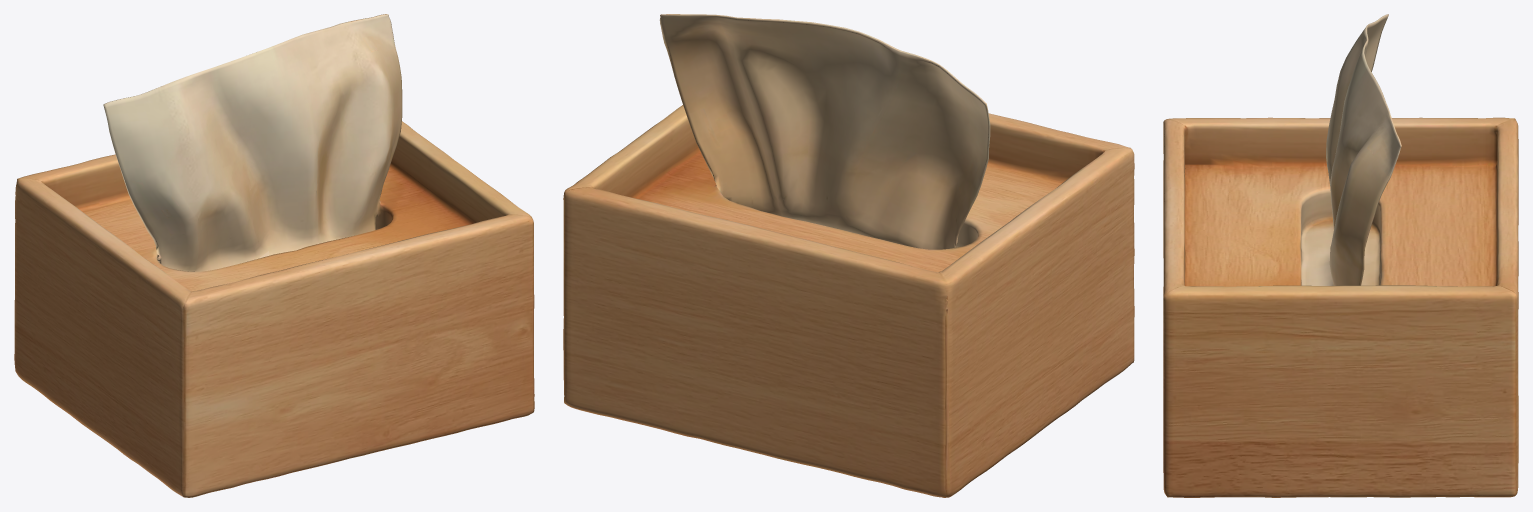
The model's file is tissue-box.glb.
3 renders of one model, left to right at view 1: azimuth 30°, elevation 25°; view 2: azimuth 150°, elevation 25°; view 3: azimuth 270°, elevation 25°, orthographic. The views are drawn at different scales.
Parts seen in each view (by area): view 1: tripo_node_7b1ee667-8805-4067-8415-898c7c0430ec; view 2: tripo_node_7b1ee667-8805-4067-8415-898c7c0430ec; view 3: tripo_node_7b1ee667-8805-4067-8415-898c7c0430ec.
Part boxes in pixels (left/top/right/bottom): tripo_node_7b1ee667-8805-4067-8415-898c7c0430ec: left=14, top=14, right=534, bottom=497; tripo_node_7b1ee667-8805-4067-8415-898c7c0430ec: left=563, top=14, right=1134, bottom=497; tripo_node_7b1ee667-8805-4067-8415-898c7c0430ec: left=1163, top=14, right=1518, bottom=497.
Bounding box in the file's own units: 0.1482 × 0.1357 × 0.125.
1 material, 1 textured.
